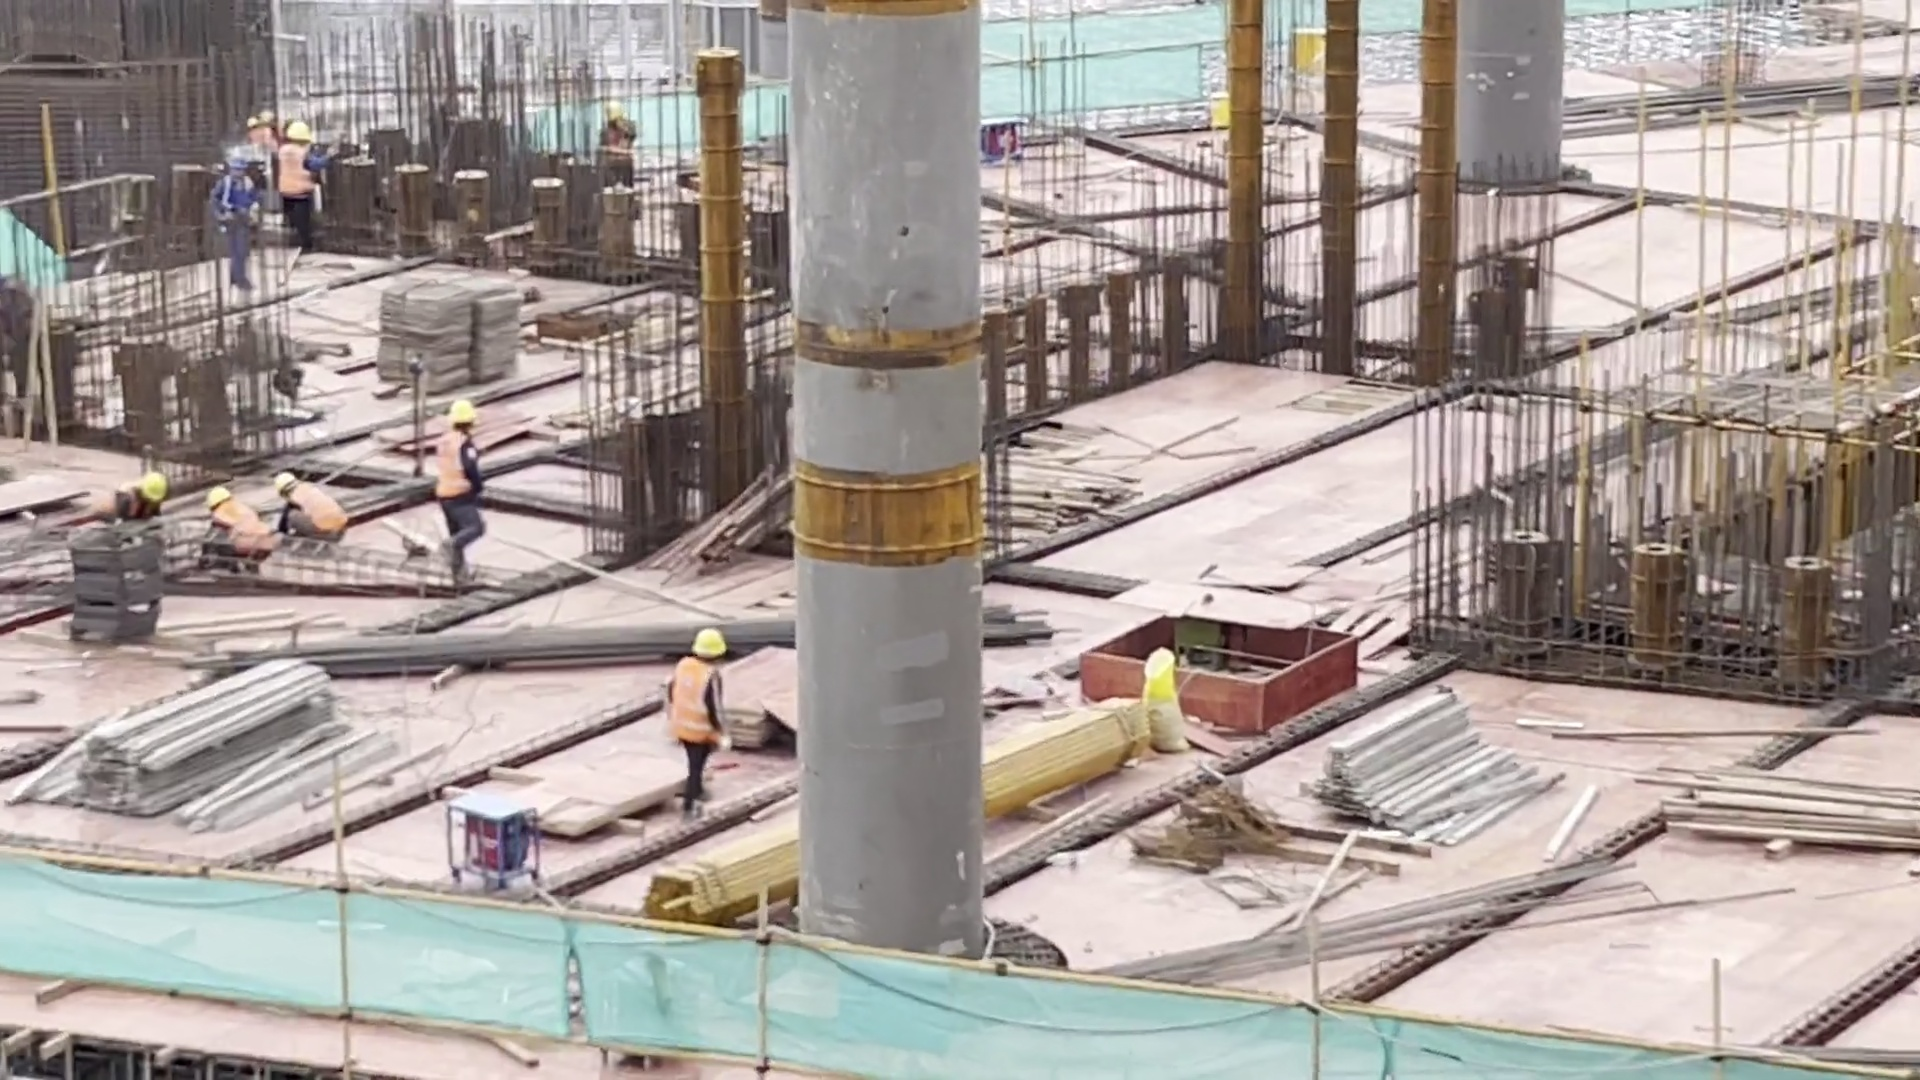helmet: (690, 626, 728, 657), (139, 468, 168, 505), (450, 398, 478, 426), (286, 119, 313, 145), (206, 485, 232, 510), (274, 472, 296, 495), (228, 152, 251, 170)
person: (668, 626, 728, 832), (428, 397, 491, 581), (204, 145, 266, 288), (271, 114, 313, 254), (202, 492, 268, 577), (275, 470, 348, 546), (91, 461, 171, 525)
vest: (669, 654, 727, 747), (435, 428, 482, 506), (292, 482, 350, 536), (282, 144, 318, 195)
